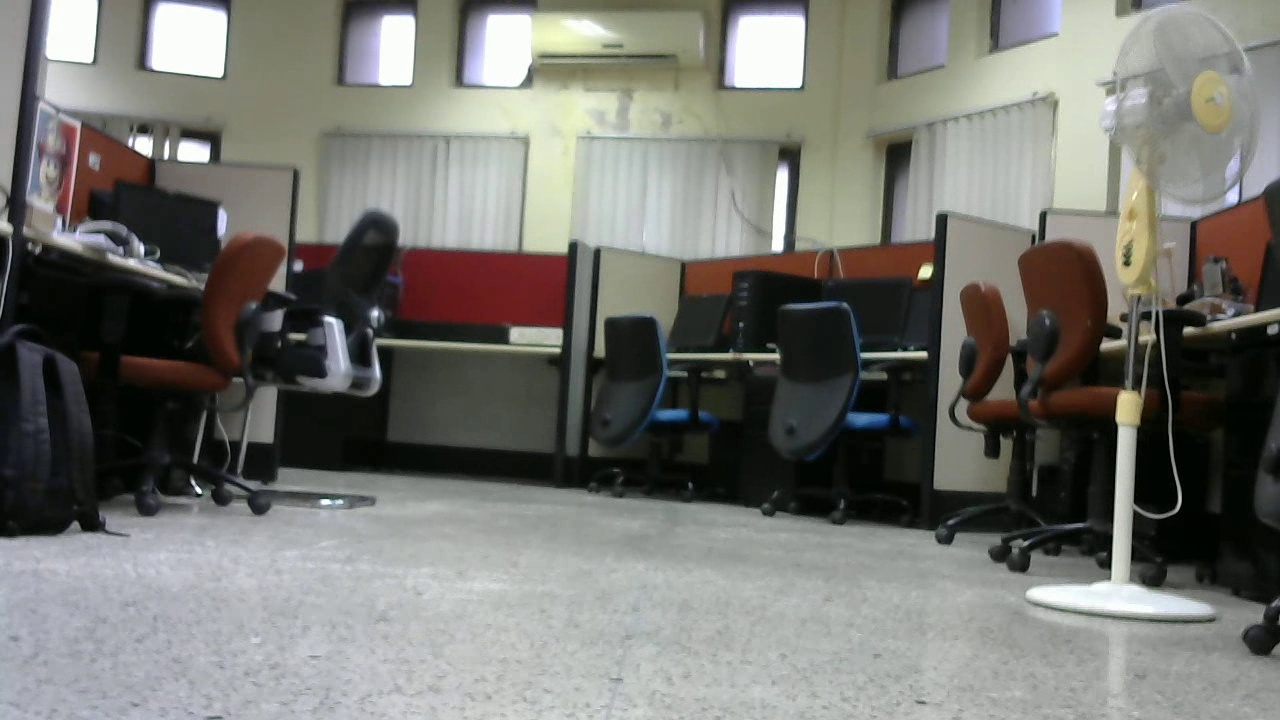chair: (1012, 253, 1181, 570), (108, 230, 268, 516), (266, 205, 405, 508), (746, 292, 910, 532), (941, 282, 1072, 557), (580, 306, 726, 499)
